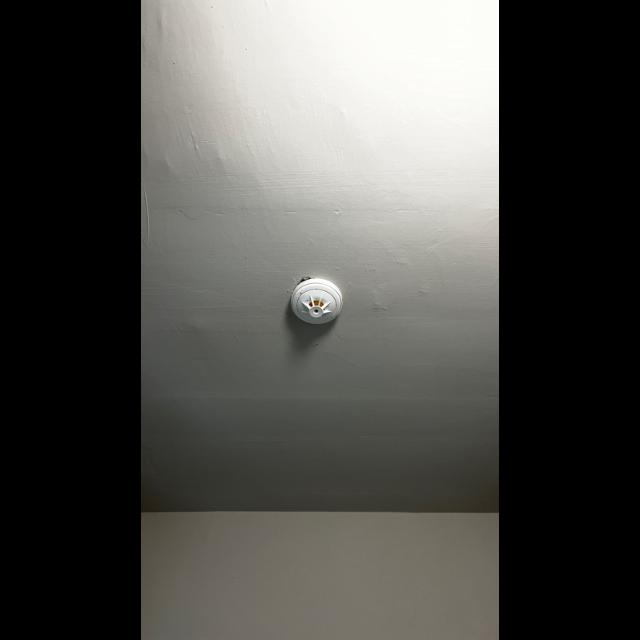Smoke-Detector: (291, 277, 343, 325)
